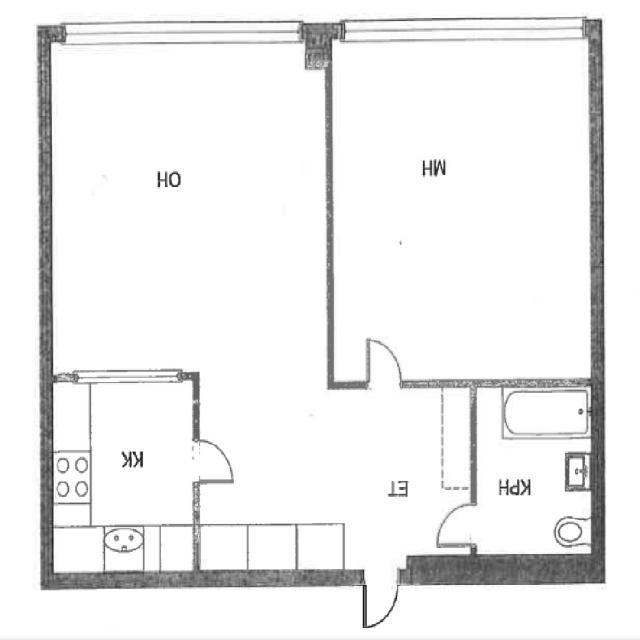door: (191, 432, 241, 485), (360, 565, 400, 631), (432, 496, 479, 552), (363, 334, 406, 393)
window: (61, 20, 306, 44), (343, 17, 587, 41), (68, 364, 184, 388)
zone: (42, 38, 335, 378), (333, 21, 598, 384), (197, 378, 475, 570), (54, 376, 198, 584), (474, 382, 595, 557)
